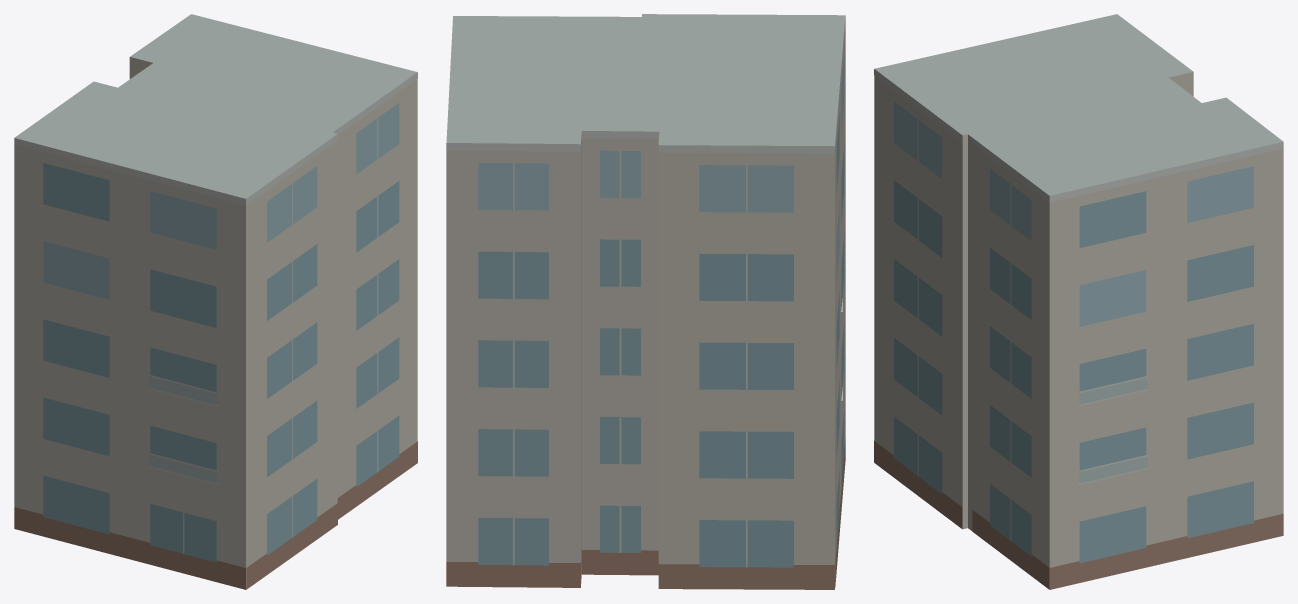
Rendered from survey-upis-32665811.glb.
3 views of the same model, side by side, from view 1: azimuth 30°, elevation 25°; view 2: azimuth 150°, elevation 25°; view 3: azimuth 270°, elevation 25° (orthographic). The views are drawn at different scales.
Parts seen in each view (by area): view 1: survey-upis-32665811.tmp; view 2: survey-upis-32665811.tmp; view 3: survey-upis-32665811.tmp.
Part boxes in pixels (box(x1,y1,x2,y2)): survey-upis-32665811.tmp: box(14, 14, 417, 589); survey-upis-32665811.tmp: box(446, 14, 845, 589); survey-upis-32665811.tmp: box(874, 14, 1283, 589).
Size of the model in its own units: 14.27 by 14.4 by 13.58.
